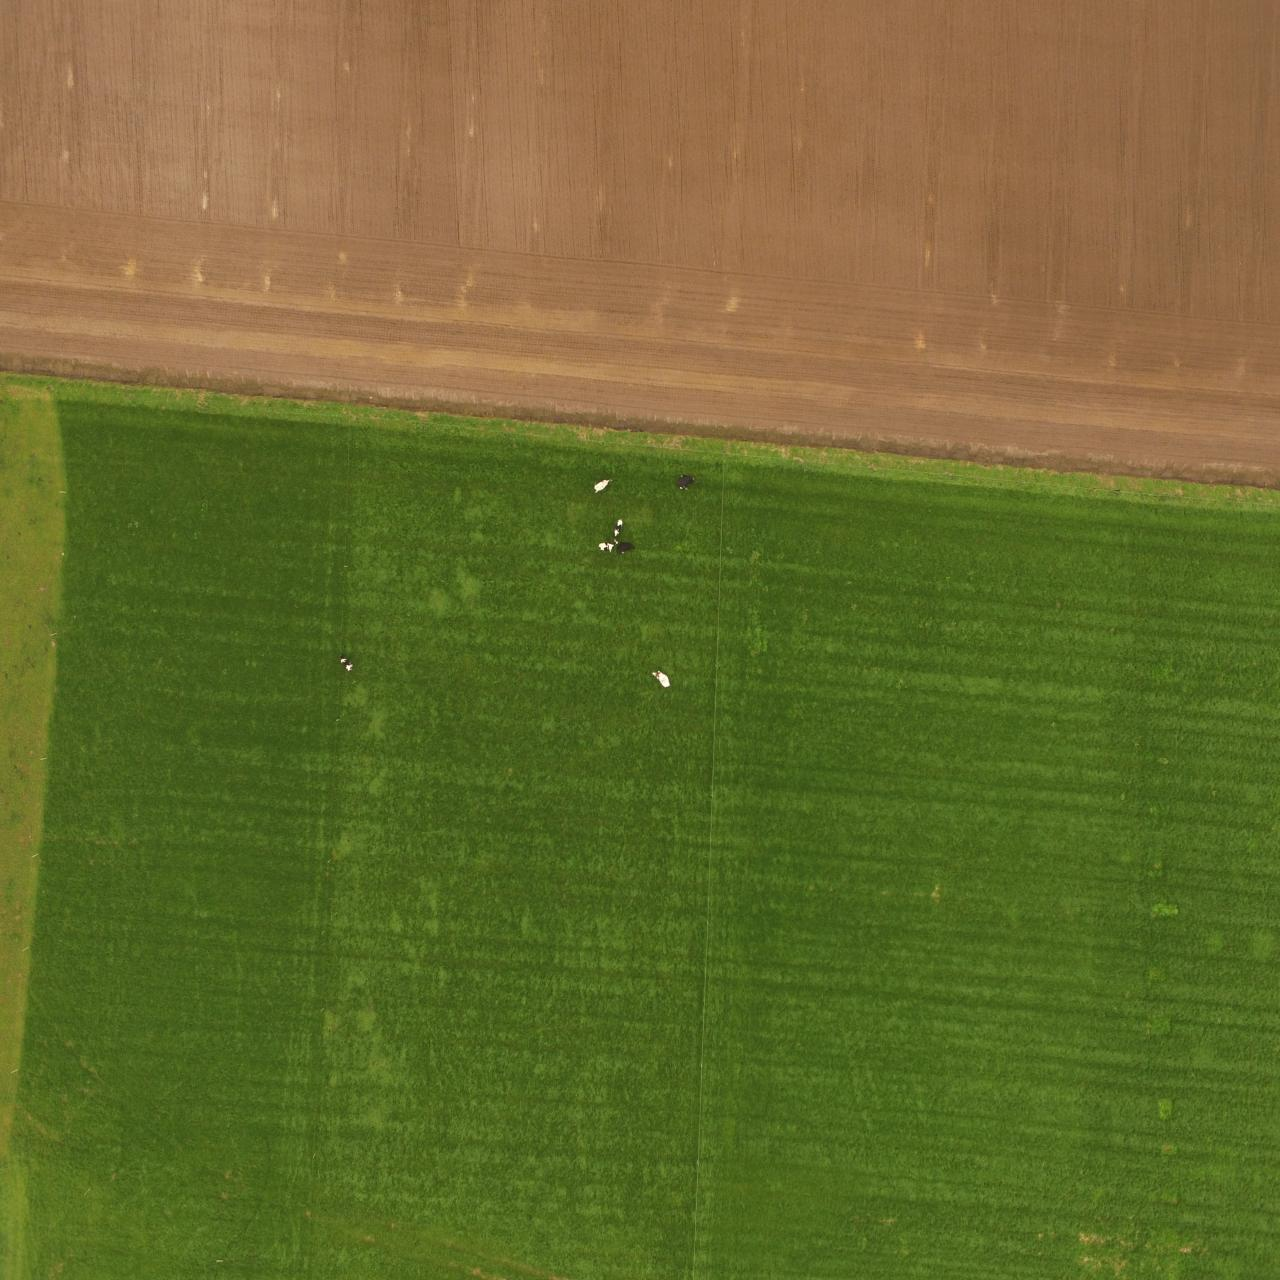cow: (649, 667, 673, 692), (675, 471, 697, 491), (590, 476, 613, 495), (614, 539, 638, 554), (339, 658, 355, 676), (612, 516, 625, 536), (597, 539, 614, 552)
